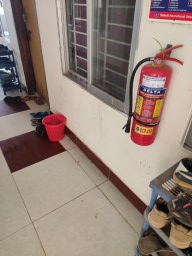fire_extinguisher: (32, 10, 110, 84)
